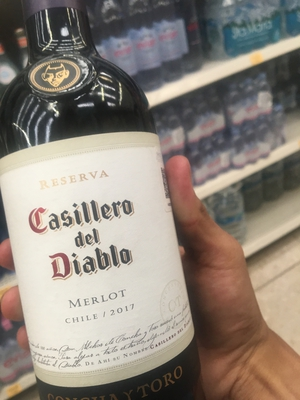casillero del diablo merlot: (2, 6, 204, 394)
